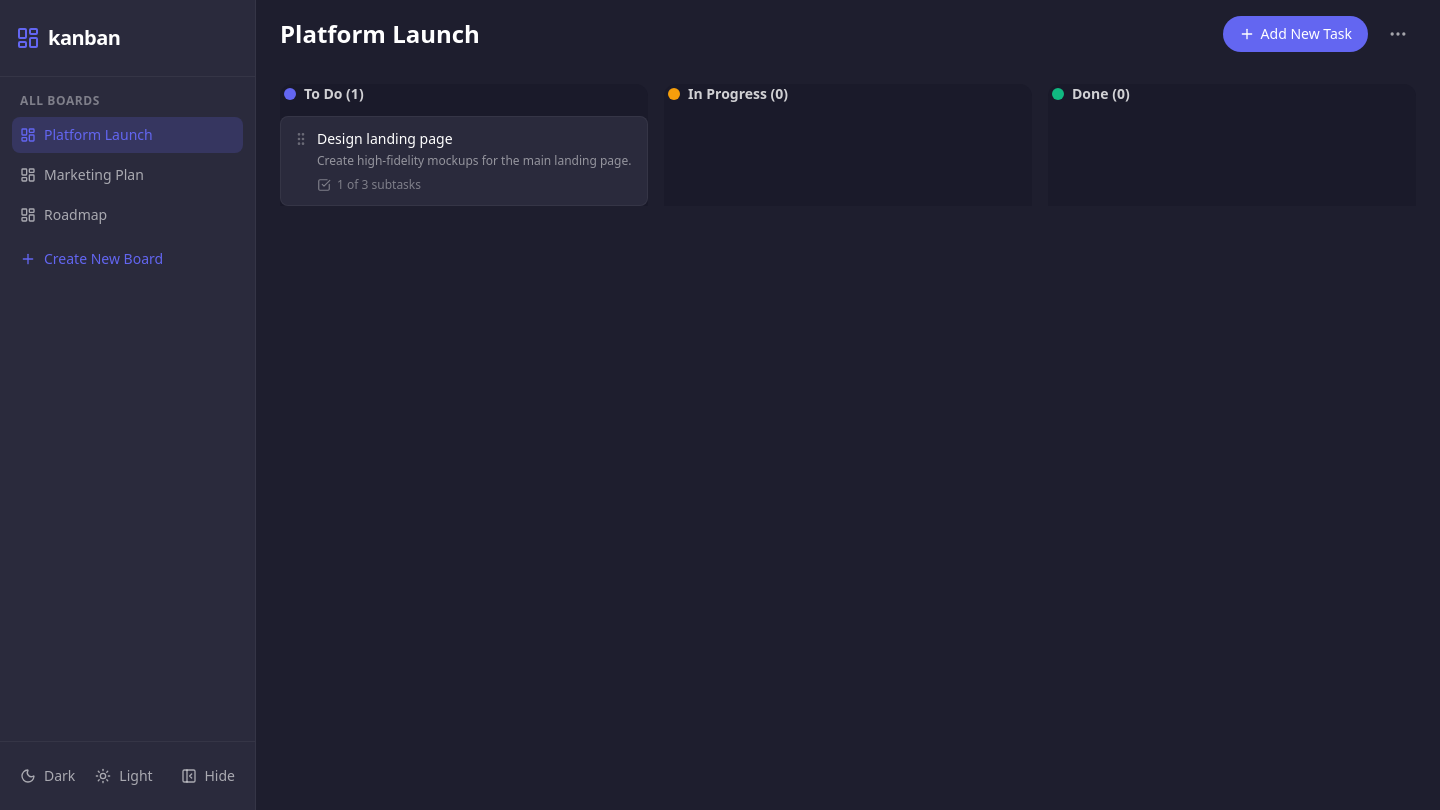
Test case: App › creates a new task and adds it to the board
This screenshot has width=1440, height=810.
Click the button "Add New Task": (1295, 34) x1=1223 y1=16 x2=1368 y2=52
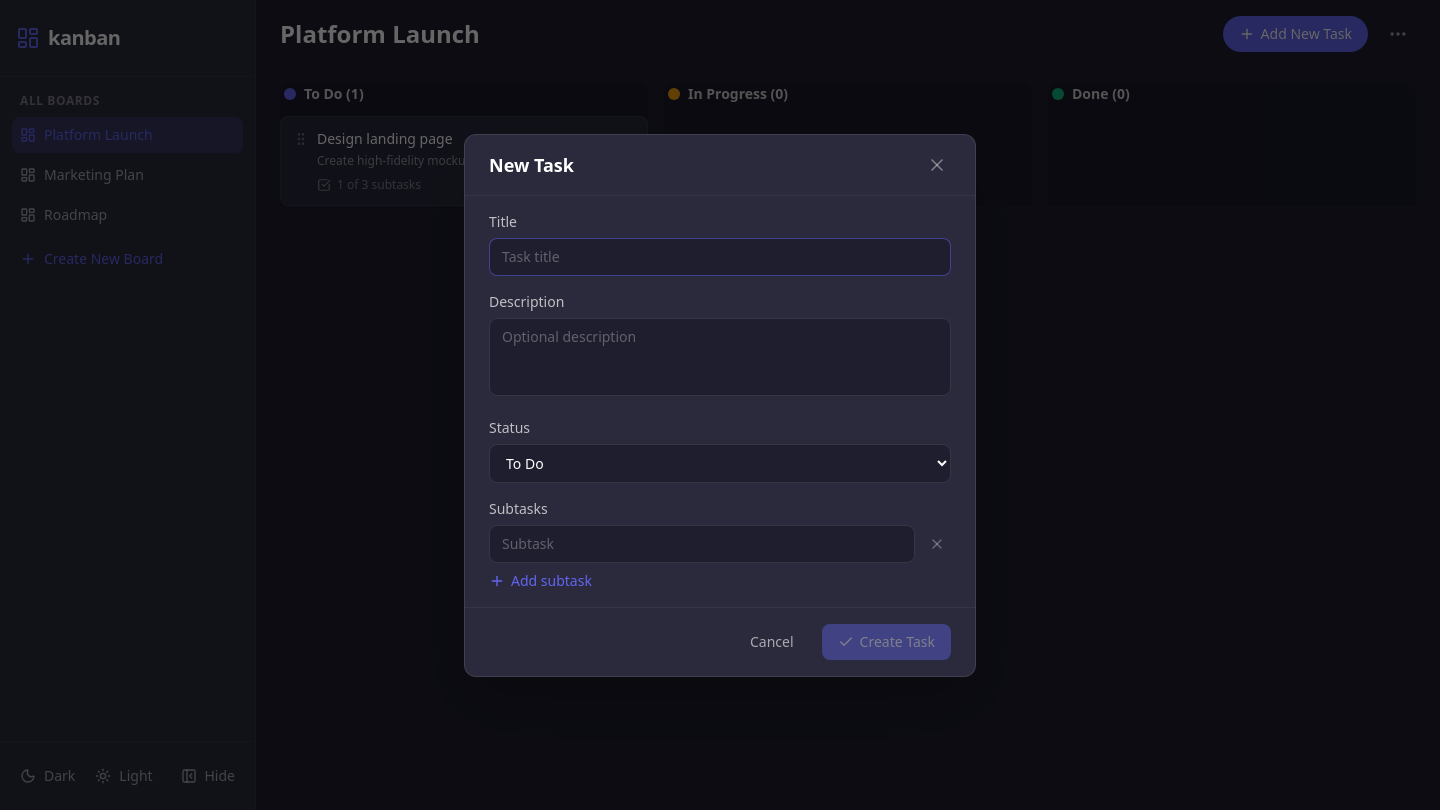
Check: the heading "New Task" is shown, box x1=489 y1=150 x2=574 y2=178
In the field with placeholder "Task title": (720, 256) x1=489 y1=238 x2=951 y2=276, type "New created task"
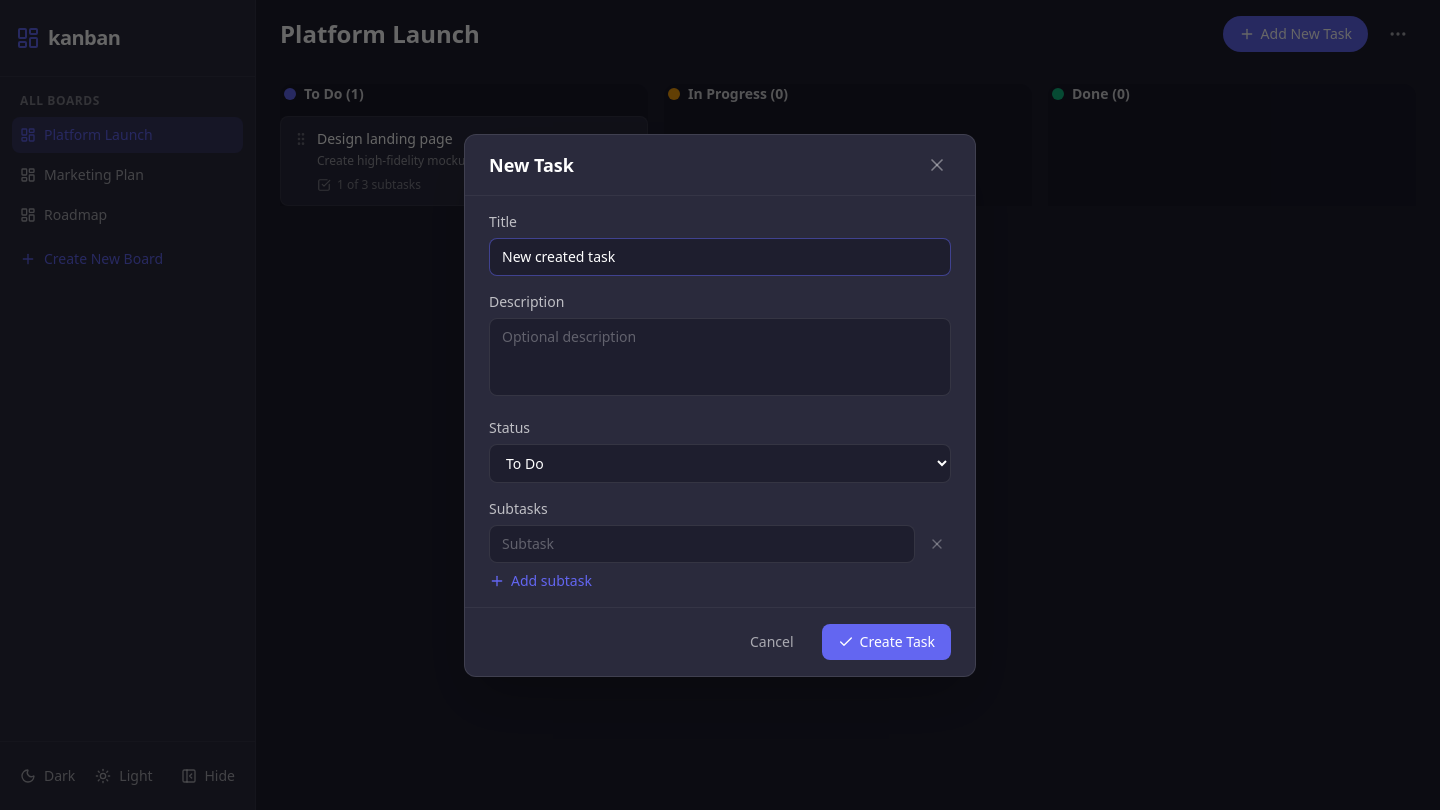
Click the button "Create Task": (886, 642) x1=822 y1=624 x2=951 y2=660
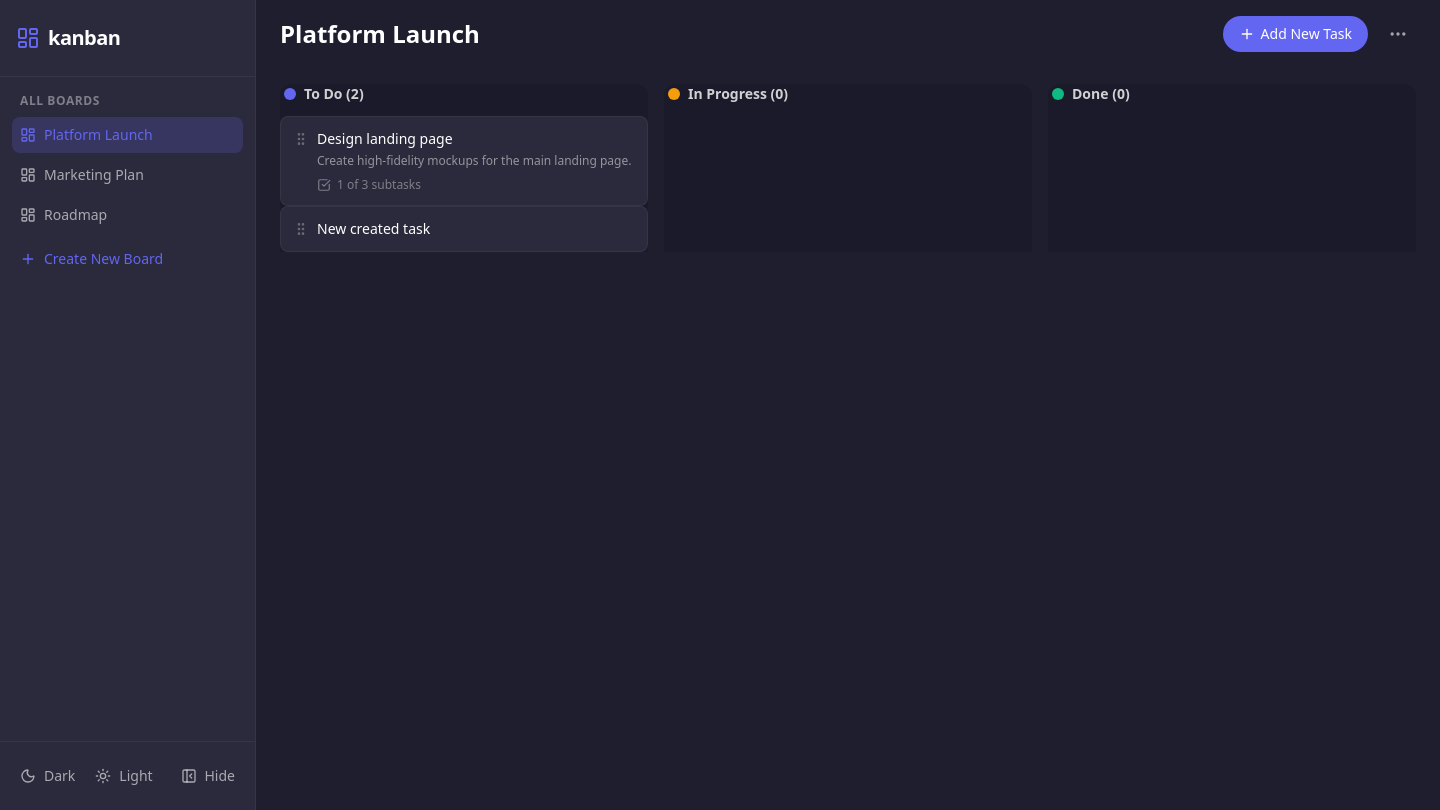
Check: the heading "New created task" is shown, box x1=317 y1=219 x2=430 y2=238
